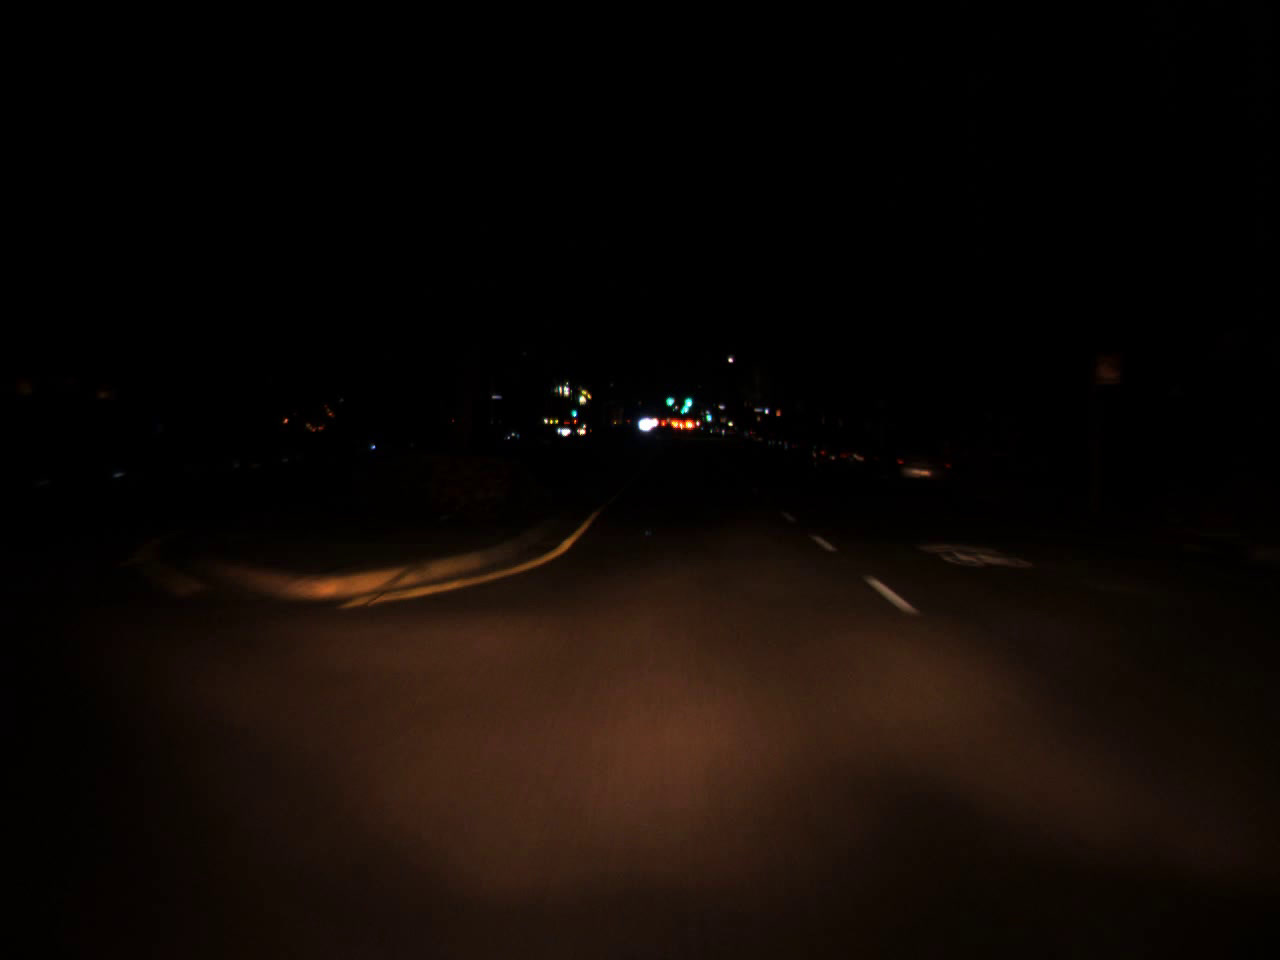go: (682, 386, 692, 410), (665, 387, 675, 408), (570, 403, 577, 418), (703, 410, 711, 422)
